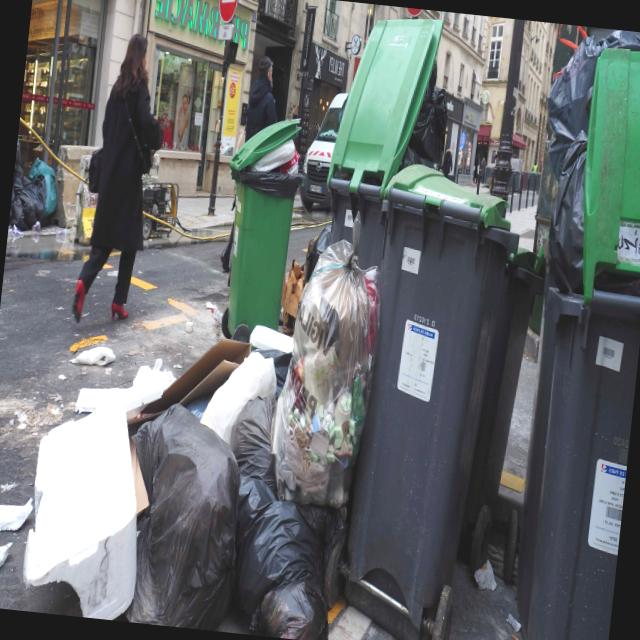garbage: (0, 211, 405, 640)
